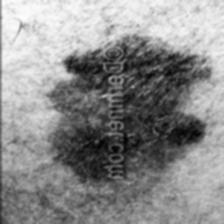Potentially Malignant Skin Tumors: (129, 31, 208, 190), (57, 38, 101, 182)
